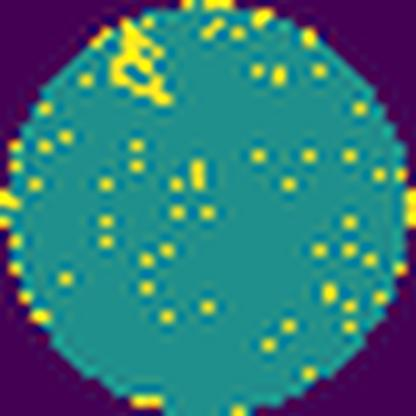Loc: (110, 22, 172, 107)
